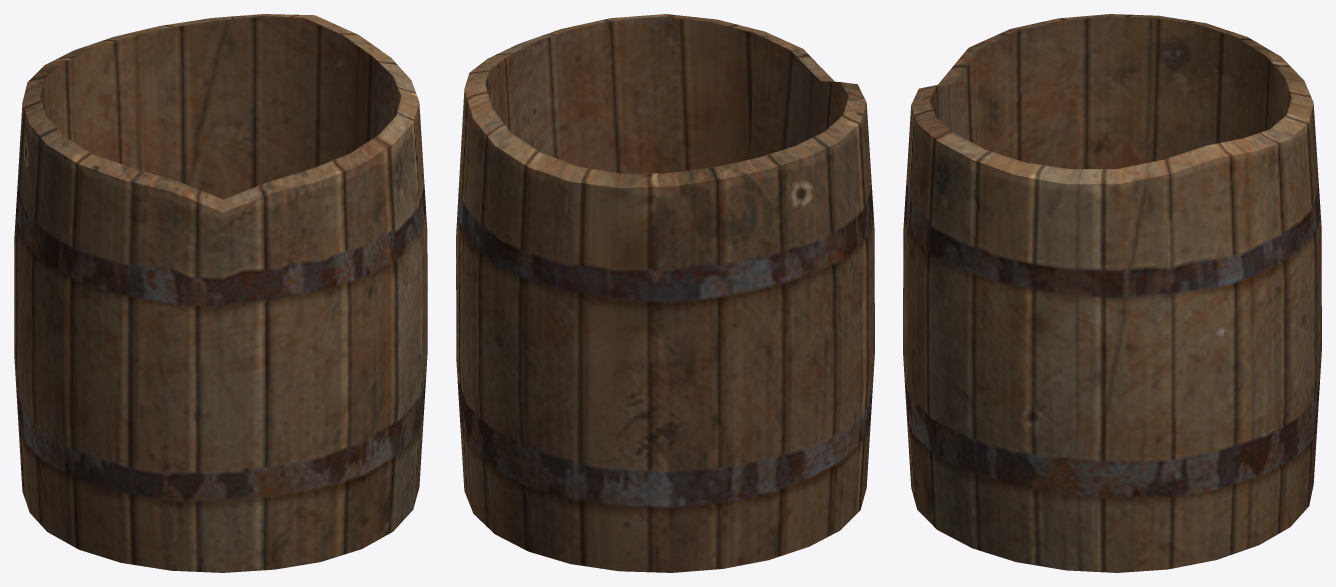
Rendered from village_barrel.fbx.
3 views of the same model, side by side, from view 1: azimuth 30°, elevation 25°; view 2: azimuth 150°, elevation 25°; view 3: azimuth 270°, elevation 25° (orthographic).
Visible parts, largest first — view 1: village_barrel; view 2: village_barrel; view 3: village_barrel.
Boxes of the visible parts, bbox=[...] form: village_barrel: bbox=[14, 14, 427, 572]; village_barrel: bbox=[456, 14, 874, 572]; village_barrel: bbox=[903, 14, 1321, 572].
Bounding box in the file's own units: 71.19 × 76.19 × 71.11.
